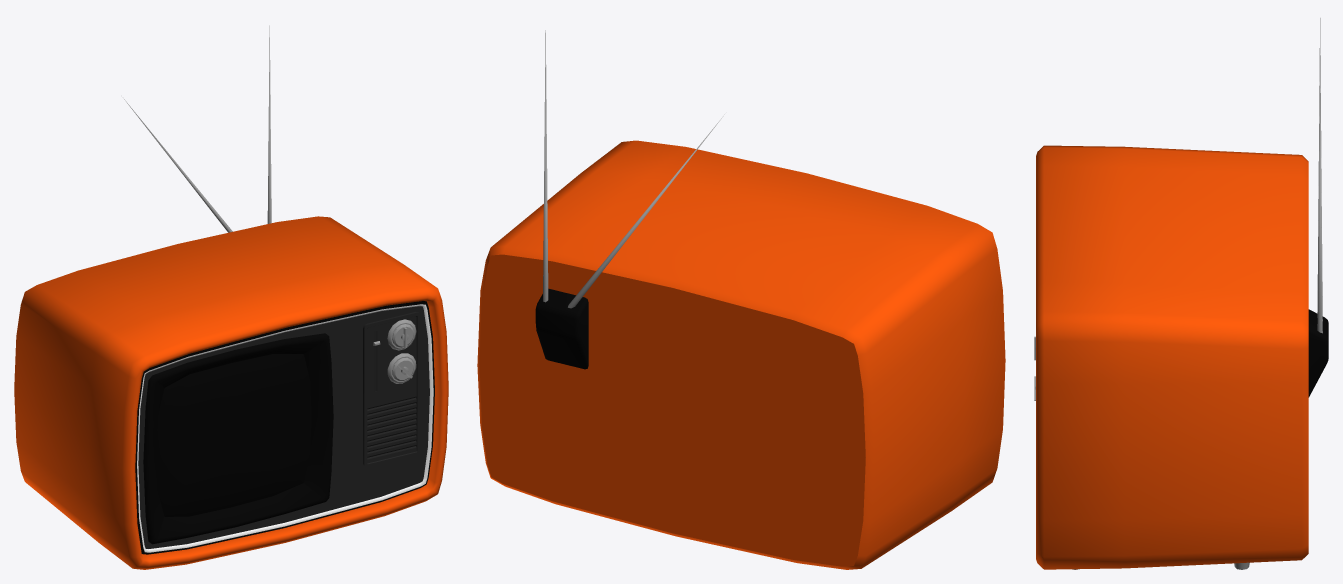
3 renders of one model, left to right at view 1: azimuth 30°, elevation 25°; view 2: azimuth 150°, elevation 25°; view 3: azimuth 270°, elevation 25°, orthographic. The views are drawn at different scales.
Visible parts, largest first — view 1: objRetro_TV; view 2: objRetro_TV; view 3: objRetro_TV.
Part boxes in pixels (bbox=[...]): objRetro_TV: bbox=[14, 25, 448, 569]; objRetro_TV: bbox=[477, 30, 1005, 569]; objRetro_TV: bbox=[1034, 18, 1328, 569].
Bounding box in the file's own units: 280 × 344 × 183.
